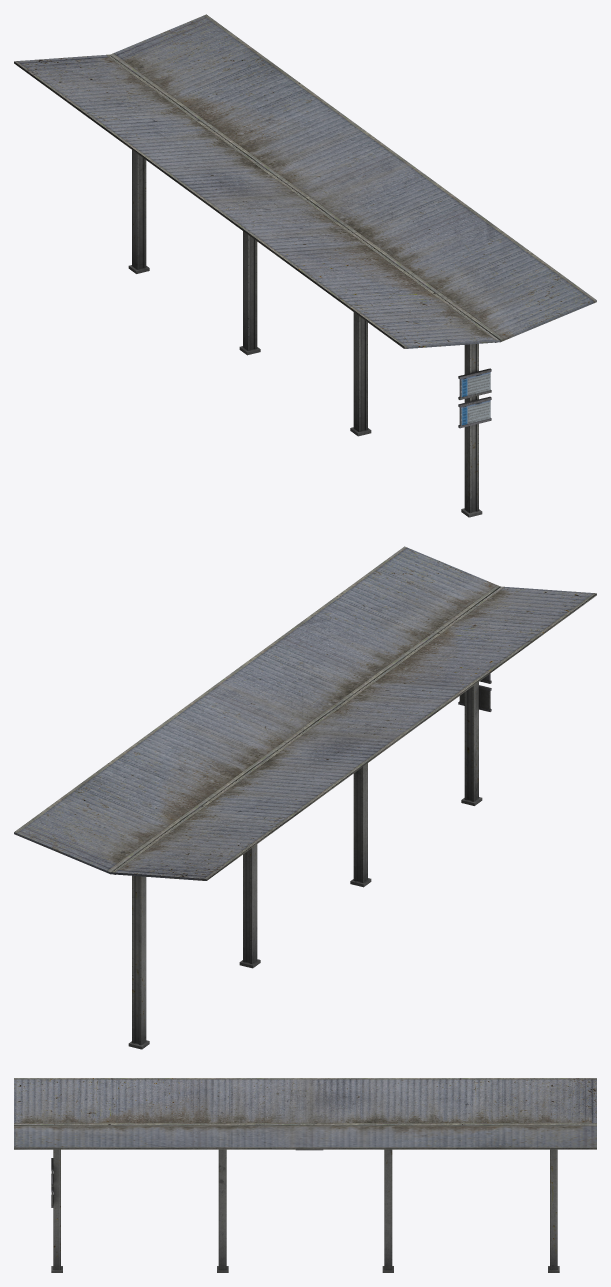
The model's file is rcp2_bus_stop.FBX.
The picture shows the model from 3 angles, top to bottom: view 1: azimuth 30°, elevation 25°; view 2: azimuth 150°, elevation 25°; view 3: azimuth 270°, elevation 25°; orthographic projection. The views are drawn at different scales.
Parts seen in each view (by area): view 1: rcp2_bus_stop_01; view 2: rcp2_bus_stop_01; view 3: rcp2_bus_stop_01.
Boxes of the visible parts, x1=… form: rcp2_bus_stop_01: x1=14, y1=14, x2=596, y2=517; rcp2_bus_stop_01: x1=14, y1=546, x2=596, y2=1049; rcp2_bus_stop_01: x1=14, y1=1078, x2=596, y2=1272.
Size of the model in its own units: 426 by 446 by 1497.
